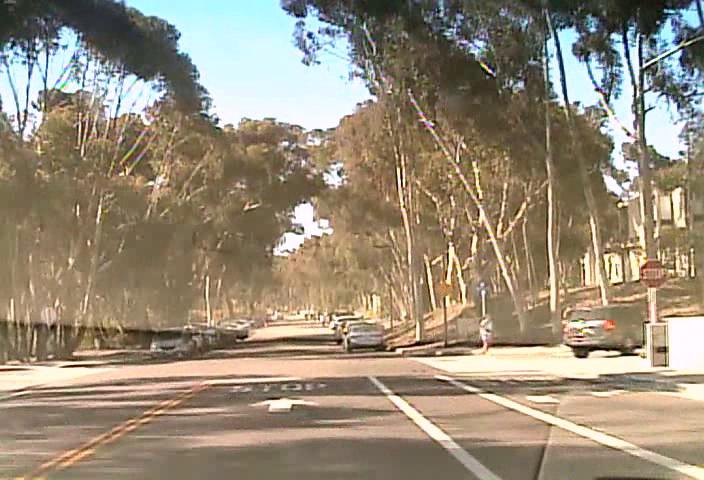stop: (638, 259, 666, 288)
